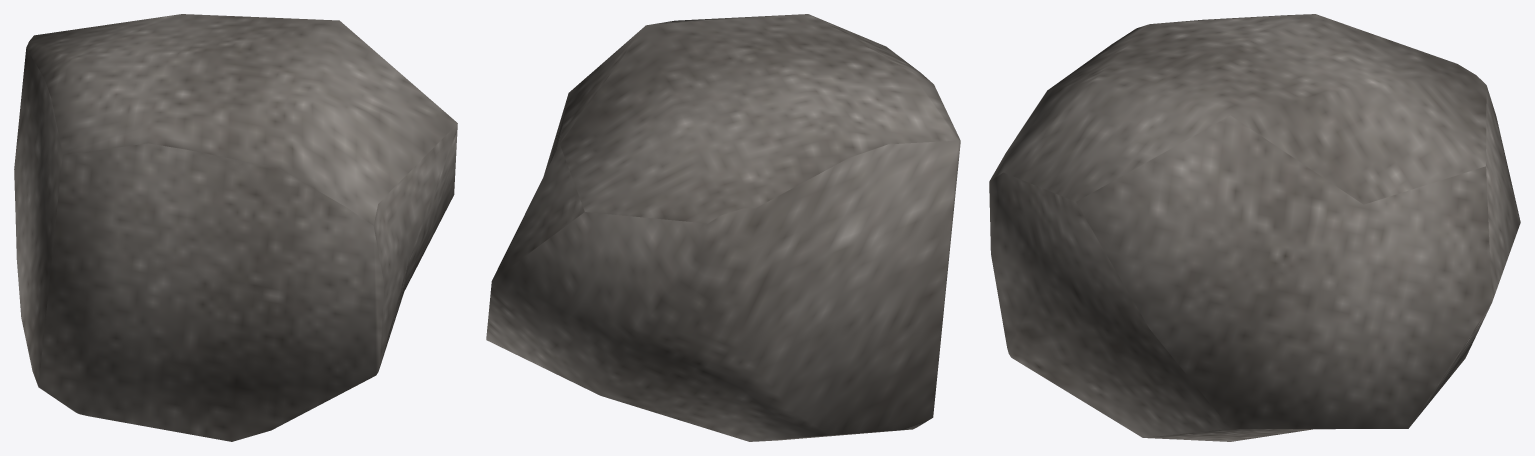
The model's file is boulder_10.glb.
3 renders of one model, left to right at view 1: azimuth 30°, elevation 25°; view 2: azimuth 150°, elevation 25°; view 3: azimuth 270°, elevation 25°, orthographic. The views are drawn at different scales.
Visible parts, largest first — view 1: boulder_10; view 2: boulder_10; view 3: boulder_10.
Boxes of the visible parts, x1,y1,x2,y2 form: boulder_10: (14,14,457,441); boulder_10: (486,14,960,441); boulder_10: (989,14,1520,441).
Size of the model in its own units: 2.4 by 2.33 by 2.85.
Materials: 1 (1 with a texture image).
